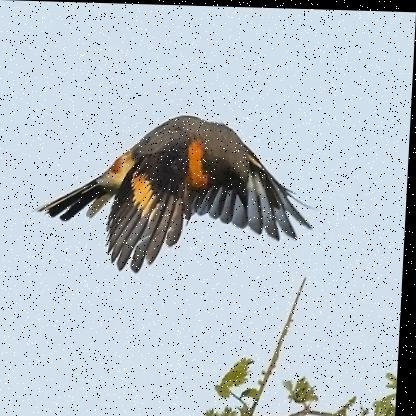Burung: (34, 110, 319, 276)
